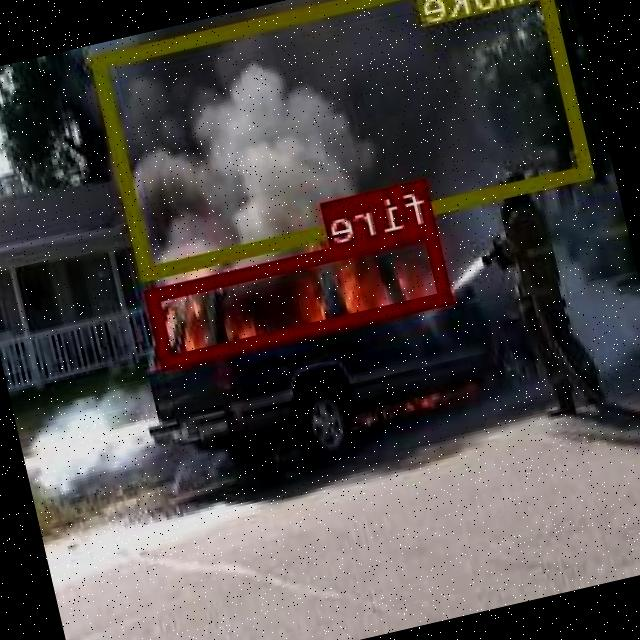fire: (146, 222, 455, 364)
smoke: (92, 0, 594, 277)
